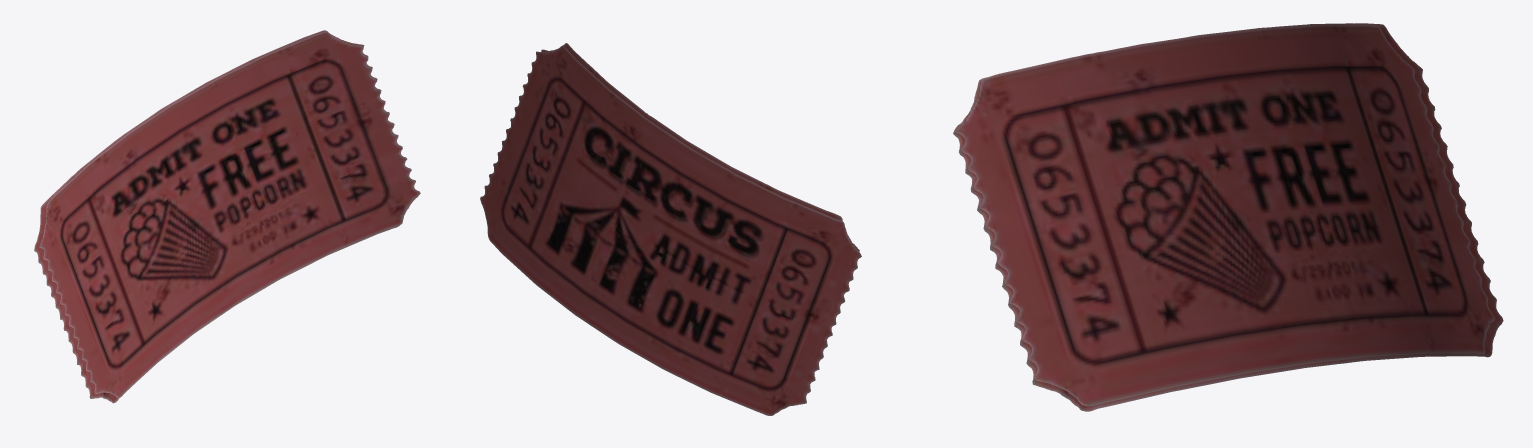
File: circus_ticket.FBX
The picture shows the model from 3 angles, left to right: view 1: azimuth 30°, elevation 25°; view 2: azimuth 150°, elevation 25°; view 3: azimuth 330°, elevation 25°; orthographic projection. The views are drawn at different scales.
Parts seen in each view (by area): view 1: Plane004; view 2: Plane004; view 3: Plane004.
Boxes of the visible parts, bbox=[...] form: Plane004: bbox=[34, 30, 420, 403]; Plane004: bbox=[480, 43, 861, 415]; Plane004: bbox=[953, 23, 1503, 411].
Size of the model in its own units: 13.26 by 10.65 by 1.51.
